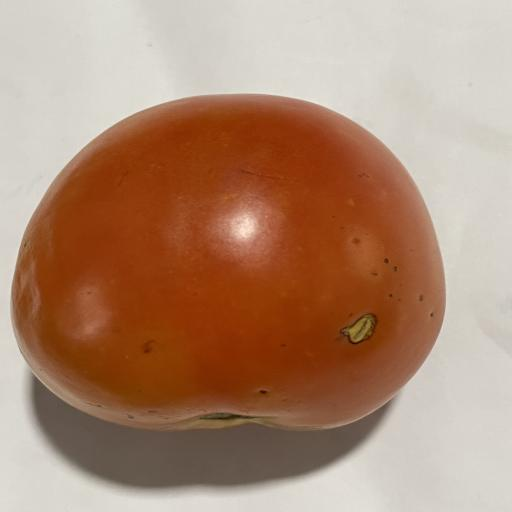unripe: (12, 95, 444, 430)
